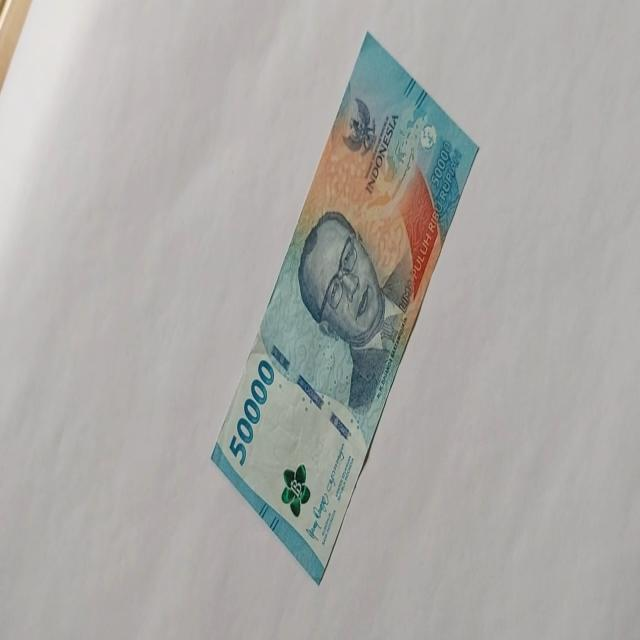lima puluh ribu rupiah: (210, 29, 480, 585), (296, 207, 414, 417), (228, 358, 274, 468)
